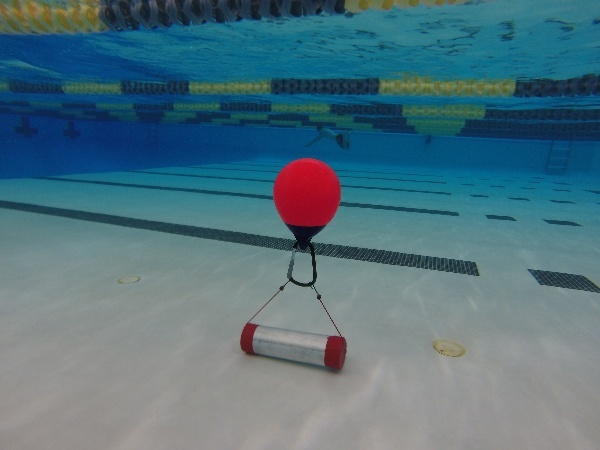buoy_red: (268, 155, 344, 251)
